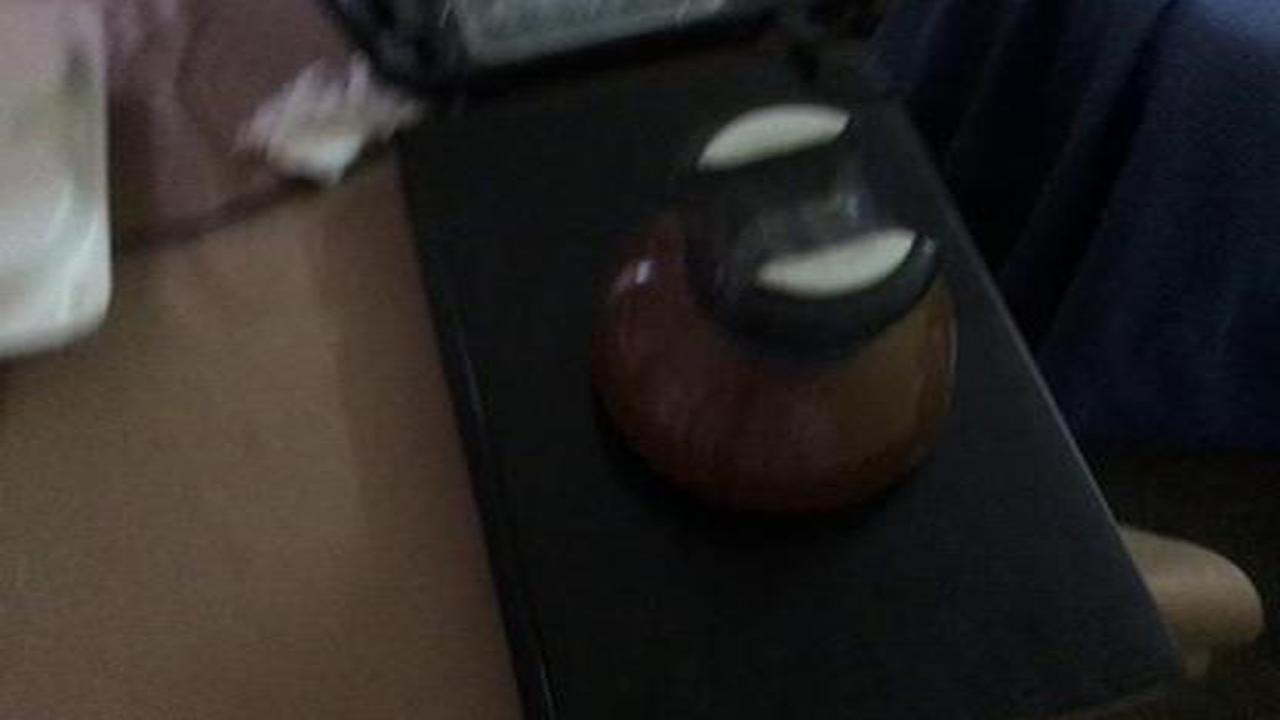insulator_pin: (579, 95, 985, 537)
